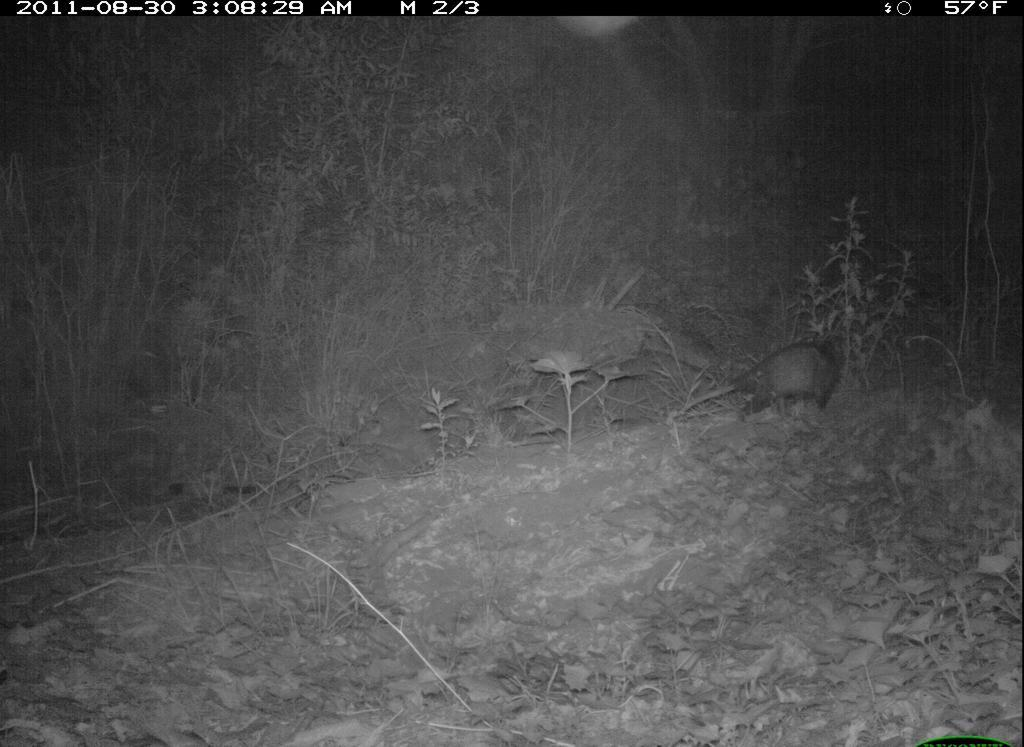opossum: (684, 332, 850, 415)
